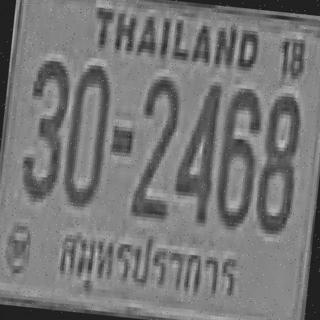N00: (61, 60, 111, 204)
N02: (130, 71, 181, 215)
N03: (18, 55, 71, 200)
N04: (171, 79, 221, 220)
N06: (212, 83, 263, 228)
N08: (254, 91, 302, 232)
P57: (49, 219, 248, 312)
